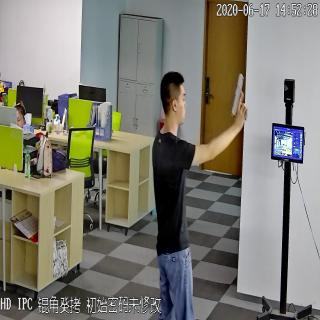gun: (230, 69, 248, 123)
